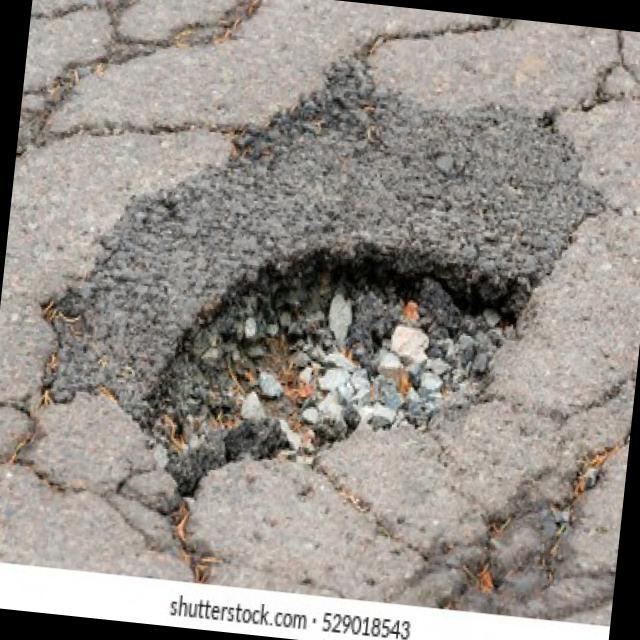Pothole: (122, 204, 540, 544)
